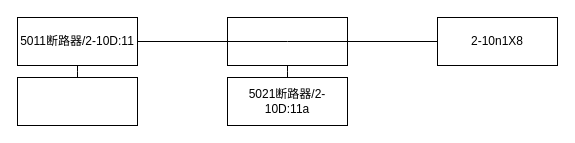
This 575x143 diagram has some shape labels left out. Here are the shapes that lost their labels. From the top down, the centre of each, then its label:
point 287,41: 5021断路器/2-10D:11
point 77,101: 5011断路器/2-10D:11a
